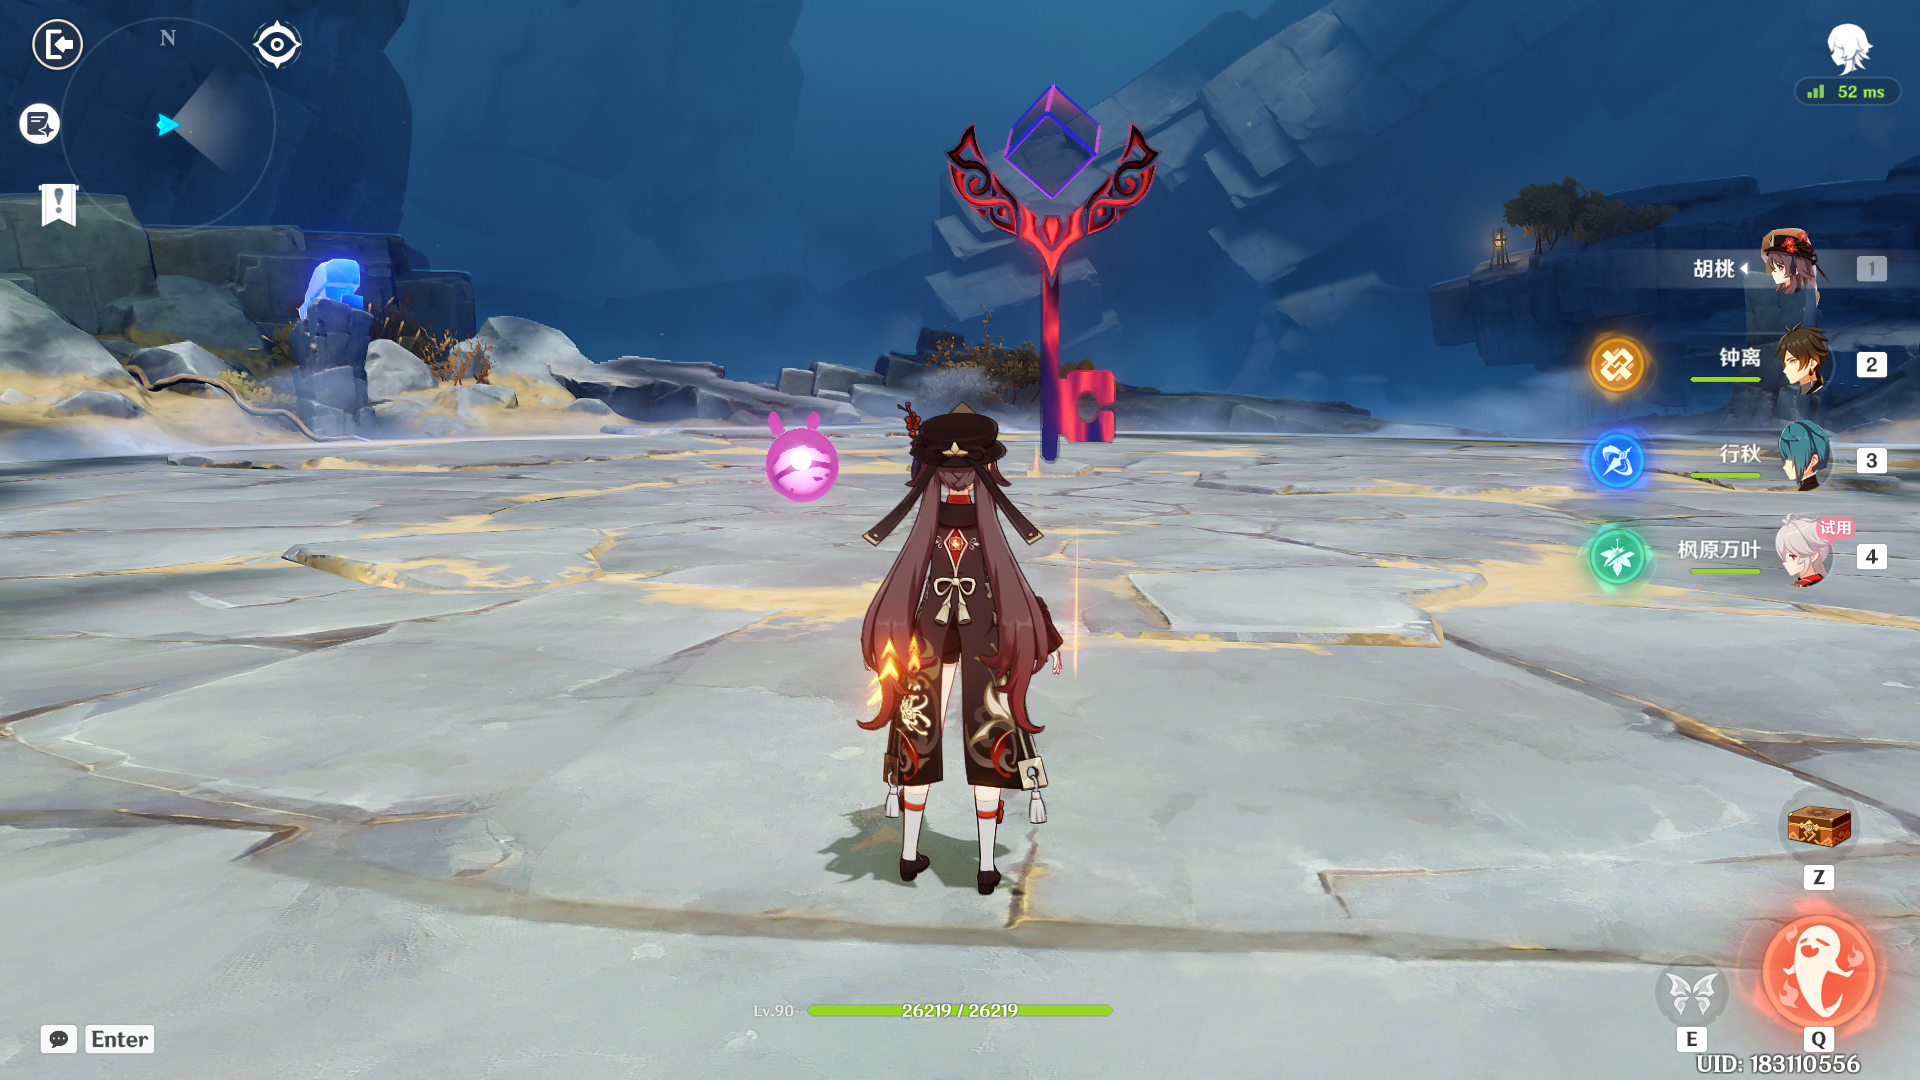character: (816, 388, 1097, 924)
